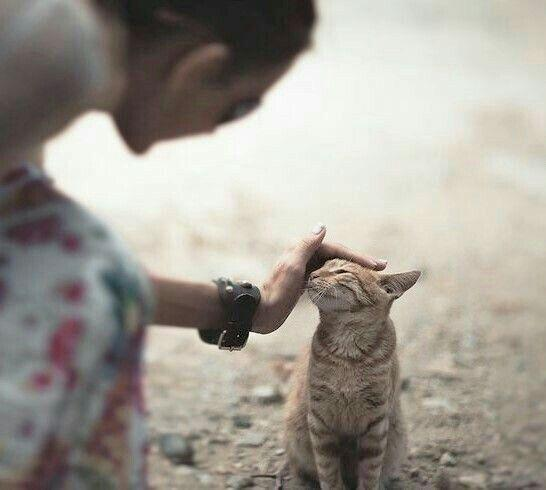kedo: (307, 259, 421, 488)
